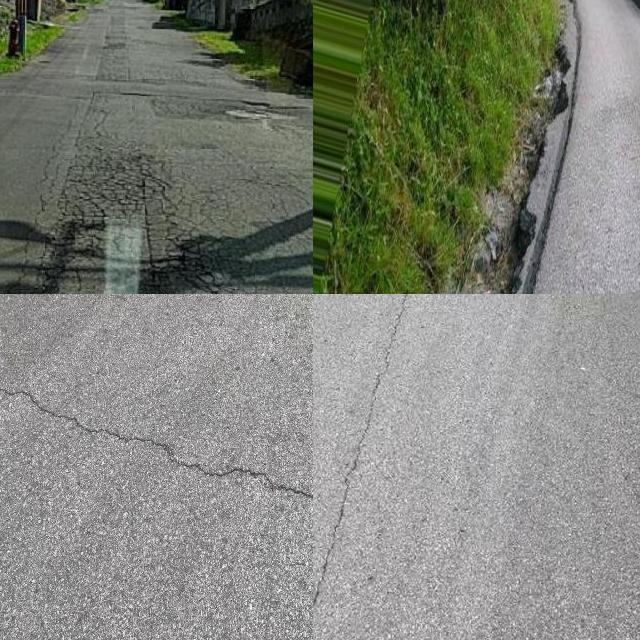Melintang: (0, 377, 313, 512)
Memanjang: (313, 294, 423, 640)
Pinggir: (466, 0, 611, 294)
Retak Buaya: (22, 127, 233, 294)
